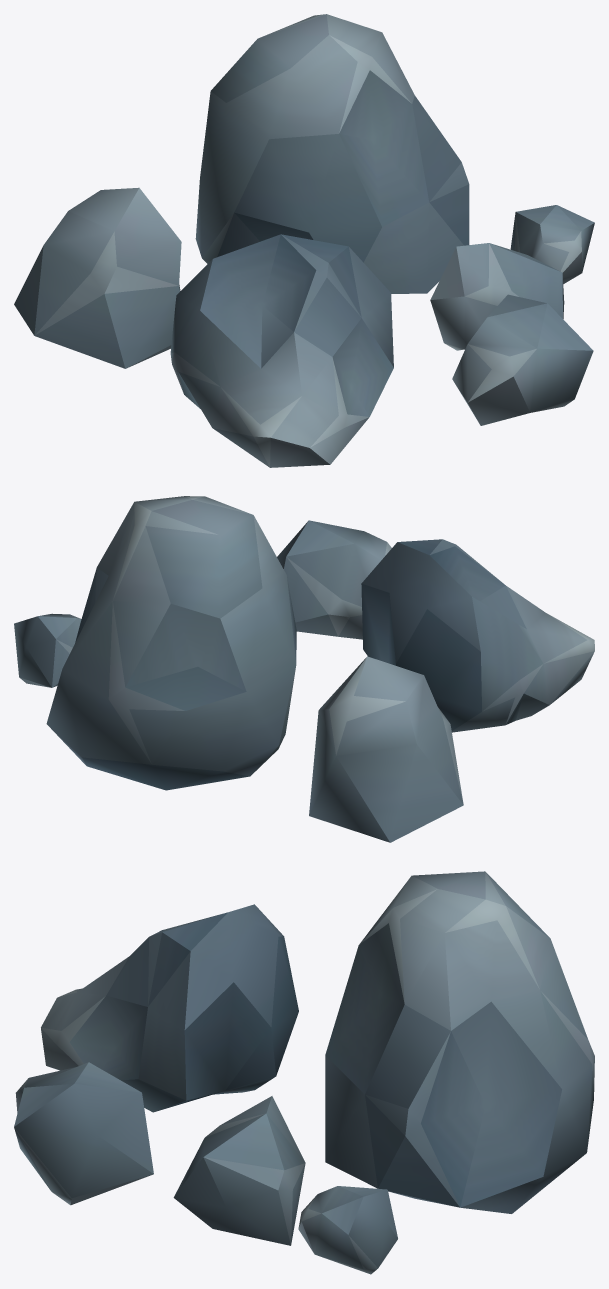
Rendered from iron_nuggets.glb.
3 renders of one model, top to bottom at view 1: azimuth 30°, elevation 25°; view 2: azimuth 150°, elevation 25°; view 3: azimuth 270°, elevation 25°, orthographic. The views are drawn at different scales.
Visible parts, largest first — view 1: Iron_Nuggets; view 2: Iron_Nuggets; view 3: Iron_Nuggets.
Boxes of the visible parts, x1,y1,x2,y2 form: Iron_Nuggets: (14,14,594,467); Iron_Nuggets: (14,496,594,842); Iron_Nuggets: (14,871,594,1274).
Size of the model in its own units: 0.9288 by 0.4749 by 0.8501.
1 material, 1 textured.
